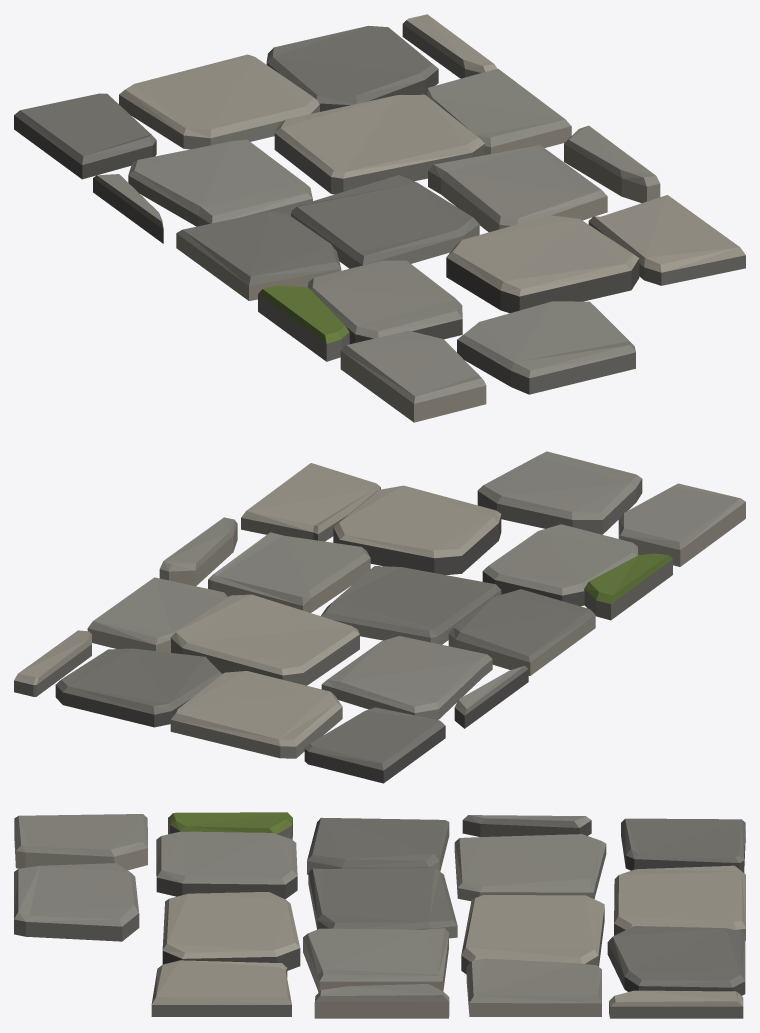
The model's file is StonePath_Straight.fbx.
3 views of the same model, one above another, from view 1: azimuth 30°, elevation 25°; view 2: azimuth 150°, elevation 25°; view 3: azimuth 270°, elevation 25° (orthographic). The views are drawn at different scales.
Visible parts, largest first — view 1: StonePath_Straight; view 2: StonePath_Straight; view 3: StonePath_Straight.
Boxes of the visible parts, x1,y1,x2,y2 form: StonePath_Straight: (14, 14, 745, 422); StonePath_Straight: (14, 451, 745, 783); StonePath_Straight: (14, 812, 745, 1018).
Bounding box in the file's own units: 1.15 × 0.0701 × 1.92.
Materials: 1 (1 with a texture image).
